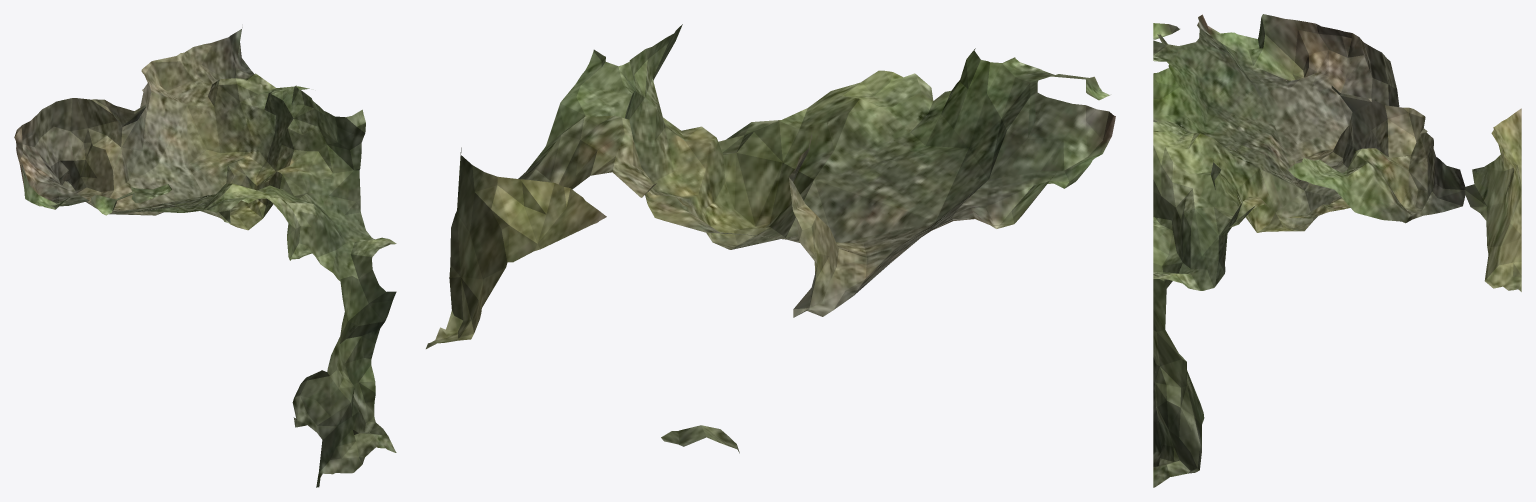
3 views of the same model, side by side, from view 1: azimuth 30°, elevation 25°; view 2: azimuth 150°, elevation 25°; view 3: azimuth 270°, elevation 25° (orthographic). The views are drawn at different scales.
Bounding box in the file's own units: 5.9 × 5.9 × 5.9.
3 materials, 3 textured.
